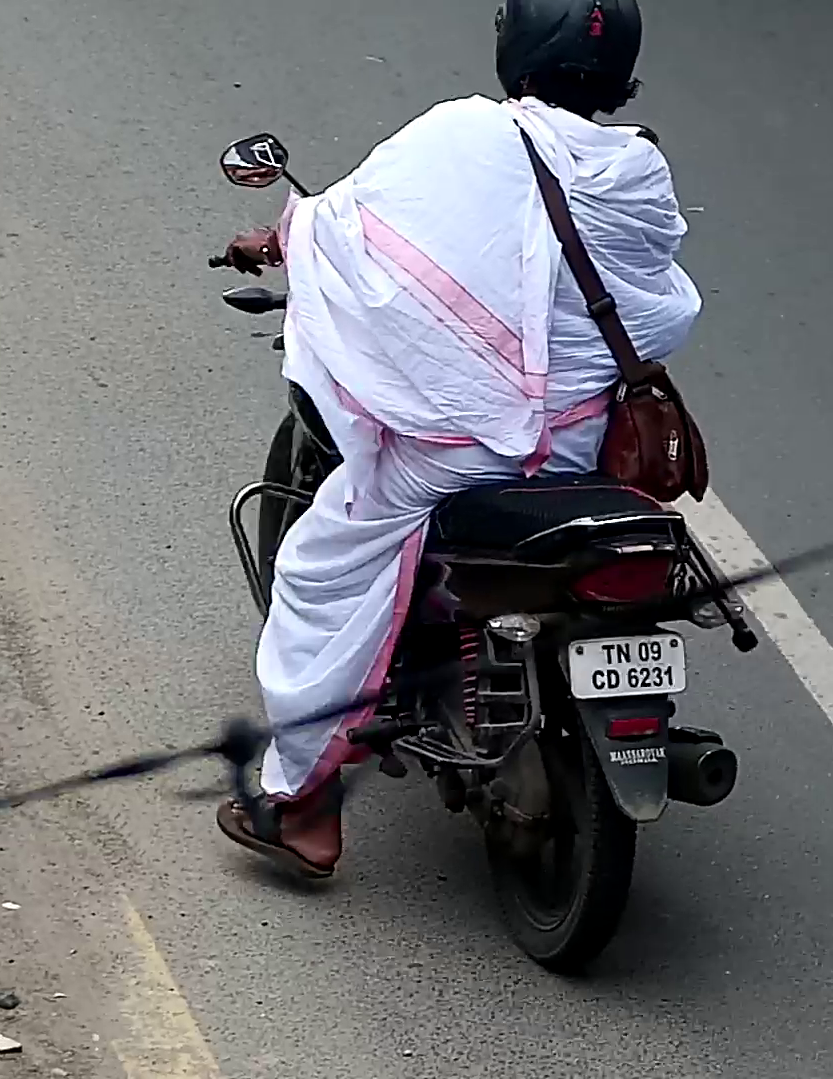0: (638, 642, 649, 661)
1: (663, 665, 673, 688)
2: (639, 666, 652, 688)
3: (652, 666, 663, 687)
6: (627, 667, 639, 688)
9: (649, 641, 663, 662)
C: (592, 669, 605, 690)
D: (605, 668, 620, 690)
N: (616, 642, 632, 663)
P16: (568, 633, 690, 700)
T: (601, 644, 615, 665)
